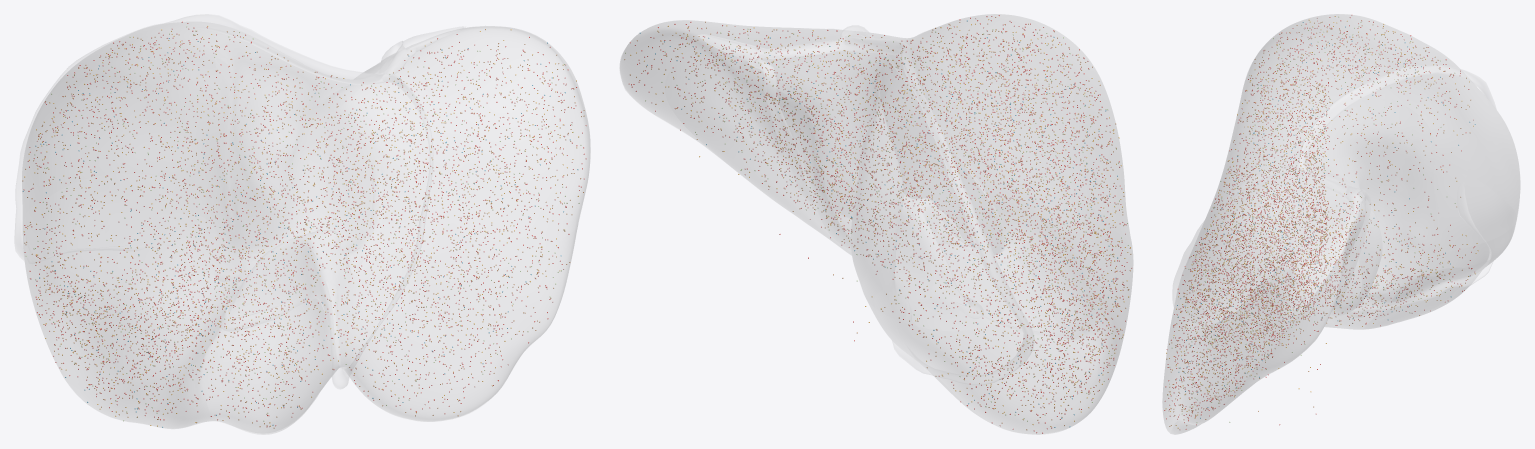
File: 3d-vh-f-liver-UBERON_0002107-all-as-pan-human-azimuth-sphere-hra-pop.glb
3 views of the same model, side by side, from view 1: azimuth 30°, elevation 25°; view 2: azimuth 150°, elevation 25°; view 3: azimuth 270°, elevation 25° (orthographic). The views are drawn at different scales.
Visible parts, largest first — view 1: VH_F_capsule_of_the_liver, VH_F_left_anterolateral_segment, VH_F_left_superomedial_segment, VH_F_right_anteroinferior_segment, VH_F_right_posterosuperior_segment, VH_F_coronary_ligament_of_liver, VH_F_falciform_ligament, VH_F_right_posteroinferior_segment; view 2: VH_F_capsule_of_the_liver, VH_F_left_superomedial_segment, VH_F_bare_area_of_liver, VH_F_coronary_ligament_of_liver, VH_F_right_anterosuperior_segment, VH_F_right_anteroinferior_segment, VH_F_right_posteroinferior_segment, VH_F_ligamentum_venosum, VH_F_right_posterosuperior_segment, VH_F_triangular_ligament_of_liver; view 3: VH_F_capsule_of_the_liver, VH_F_right_posterosuperior_segment, VH_F_right_anterosuperior_segment, VH_F_bare_area_of_liver, VH_F_left_anterolateral_segment, VH_F_coronary_ligament_of_liver, VH_F_right_posteroinferior_segment, VH_F_left_superomedial_segment, VH_F_falciform_ligament, VH_F_caudate_lobe, VH_F_ligamentum_venosum, VH_F_left_superomedial_segment1.
Part boxes in pixels (left/top/right/bottom): VH_F_capsule_of_the_liver: left=22, top=22, right=589, bottom=434; VH_F_left_anterolateral_segment: left=346, top=228, right=576, bottom=420; VH_F_left_superomedial_segment: left=389, top=27, right=589, bottom=224; VH_F_right_anteroinferior_segment: left=72, top=304, right=222, bottom=427; VH_F_right_posterosuperior_segment: left=22, top=28, right=147, bottom=220; VH_F_coronary_ligament_of_liver: left=15, top=14, right=409, bottom=259; VH_F_falciform_ligament: left=348, top=74, right=432, bottom=372; VH_F_right_posteroinferior_segment: left=23, top=234, right=56, bottom=363; VH_F_capsule_of_the_liver: left=620, top=14, right=1132, bottom=434; VH_F_left_superomedial_segment: left=621, top=21, right=841, bottom=141; VH_F_bare_area_of_liver: left=850, top=91, right=903, bottom=349; VH_F_coronary_ligament_of_liver: left=769, top=36, right=1034, bottom=384; VH_F_right_anterosuperior_segment: left=957, top=14, right=1129, bottom=235; VH_F_right_anteroinferior_segment: left=1062, top=251, right=1132, bottom=429; VH_F_right_posteroinferior_segment: left=869, top=303, right=1041, bottom=433; VH_F_ligamentum_venosum: left=751, top=56, right=816, bottom=212; VH_F_right_posterosuperior_segment: left=851, top=169, right=866, bottom=284; VH_F_triangular_ligament_of_liver: left=698, top=34, right=767, bottom=63; VH_F_capsule_of_the_liver: left=1163, top=14, right=1458, bottom=434; VH_F_right_posterosuperior_segment: left=1393, top=29, right=1519, bottom=213; VH_F_right_anterosuperior_segment: left=1249, top=14, right=1392, bottom=109; VH_F_bare_area_of_liver: left=1347, top=92, right=1519, bottom=264; VH_F_left_anterolateral_segment: left=1163, top=303, right=1251, bottom=433; VH_F_coronary_ligament_of_liver: left=1299, top=65, right=1495, bottom=311; VH_F_right_posteroinferior_segment: left=1422, top=225, right=1514, bottom=314; VH_F_left_superomedial_segment: left=1258, top=204, right=1364, bottom=379; VH_F_falciform_ligament: left=1173, top=163, right=1298, bottom=305; VH_F_caudate_lobe: left=1339, top=207, right=1381, bottom=305; VH_F_ligamentum_venosum: left=1333, top=189, right=1370, bottom=308; VH_F_left_superomedial_segment1: left=1207, top=111, right=1238, bottom=215.
Size of the model in its own units: 0.2471 by 0.17 by 0.1663.
